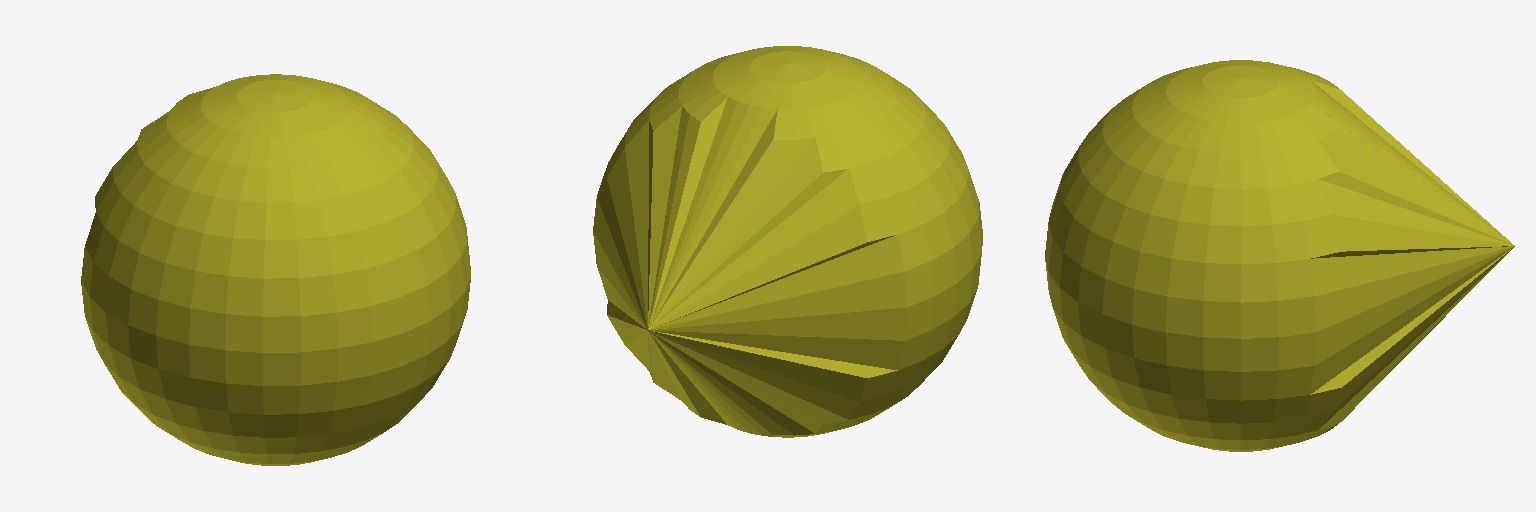
The picture shows the model from 3 angles: view 1: azimuth 30°, elevation 25°; view 2: azimuth 150°, elevation 25°; view 3: azimuth 270°, elevation 25°; orthographic projection.
Parts seen in each view (by area): view 1: Sphere; view 2: Sphere; view 3: Sphere.
Boxes of the visible parts, box(x1,y1,x2,y2) form: Sphere: box(81, 74, 470, 465); Sphere: box(593, 46, 982, 437); Sphere: box(1045, 60, 1514, 451).
Bounding box in the file's own units: 2 × 2 × 2.4.
1 materials, 1 textured.